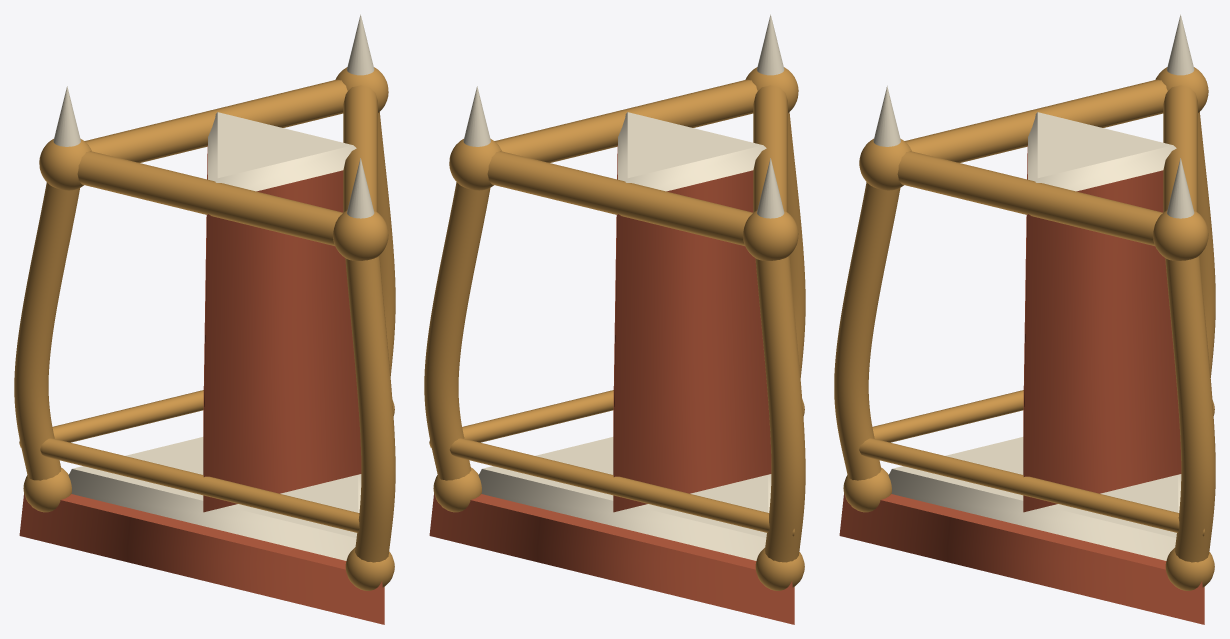
The model's file is sentinel.glb.
The picture shows the model from 3 angles, left to right: view 1: azimuth 30°, elevation 25°; view 2: azimuth 150°, elevation 25°; view 3: azimuth 270°, elevation 25°; orthographic projection.
Parts seen in each view (by area): view 1: core, crown, base, base_step, rib_1, rib_3, girdle, core_cap, rib_2, apex_cap_1, apex_cap_3, rib_foot_3 (+5 smaller); view 2: core, crown, base, base_step, rib_3, rib_2, girdle, core_cap, rib_1, apex_cap_3, apex_cap_2, rib_foot_2 (+5 smaller); view 3: core, crown, base, base_step, rib_2, rib_1, girdle, core_cap, rib_3, apex_cap_2, apex_cap_1, rib_foot_1 (+5 smaller).
Boxes of the visible parts, x1,y1,x2,y2 form: core: (203,145,361,512); crown: (77,79,377,245); base: (19,493,384,624); base_step: (68,437,361,560); rib_1: (345,255,395,562); rib_3: (14,182,79,480); girdle: (19,390,359,532); core_cap: (208,112,356,191); rib_2: (378,112,395,375); apex_cap_1: (333,210,388,260); apex_cap_3: (39,138,91,190); rib_foot_3: (23,468,71,512); core: (613,145,771,512); crown: (487,79,787,245); base: (429,493,794,624); base_step: (478,437,771,560); rib_3: (755,256,805,562); rib_2: (424,182,490,480); girdle: (429,365,799,536); core_cap: (618,112,766,191); rib_1: (788,112,805,377); apex_cap_3: (743,210,798,260); apex_cap_2: (449,138,501,190); rib_foot_2: (433,467,481,512); core: (1023,145,1181,512); crown: (897,79,1197,245); base: (839,493,1204,624); base_step: (888,437,1181,560); rib_2: (1165,255,1215,562); rib_1: (834,182,900,480); girdle: (859,390,1204,536); core_cap: (1028,112,1176,191); rib_3: (1198,112,1215,377); apex_cap_2: (1153,210,1208,260); apex_cap_1: (859,138,911,190); rib_foot_1: (843,467,891,512).
Bounding box in the file's own units: 0.0265 × 0.0302 × 0.0232.
